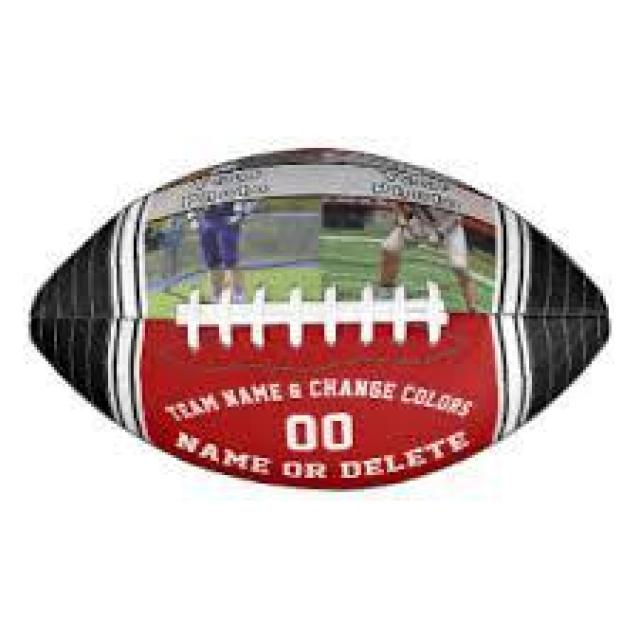ball: (29, 145, 614, 485)
